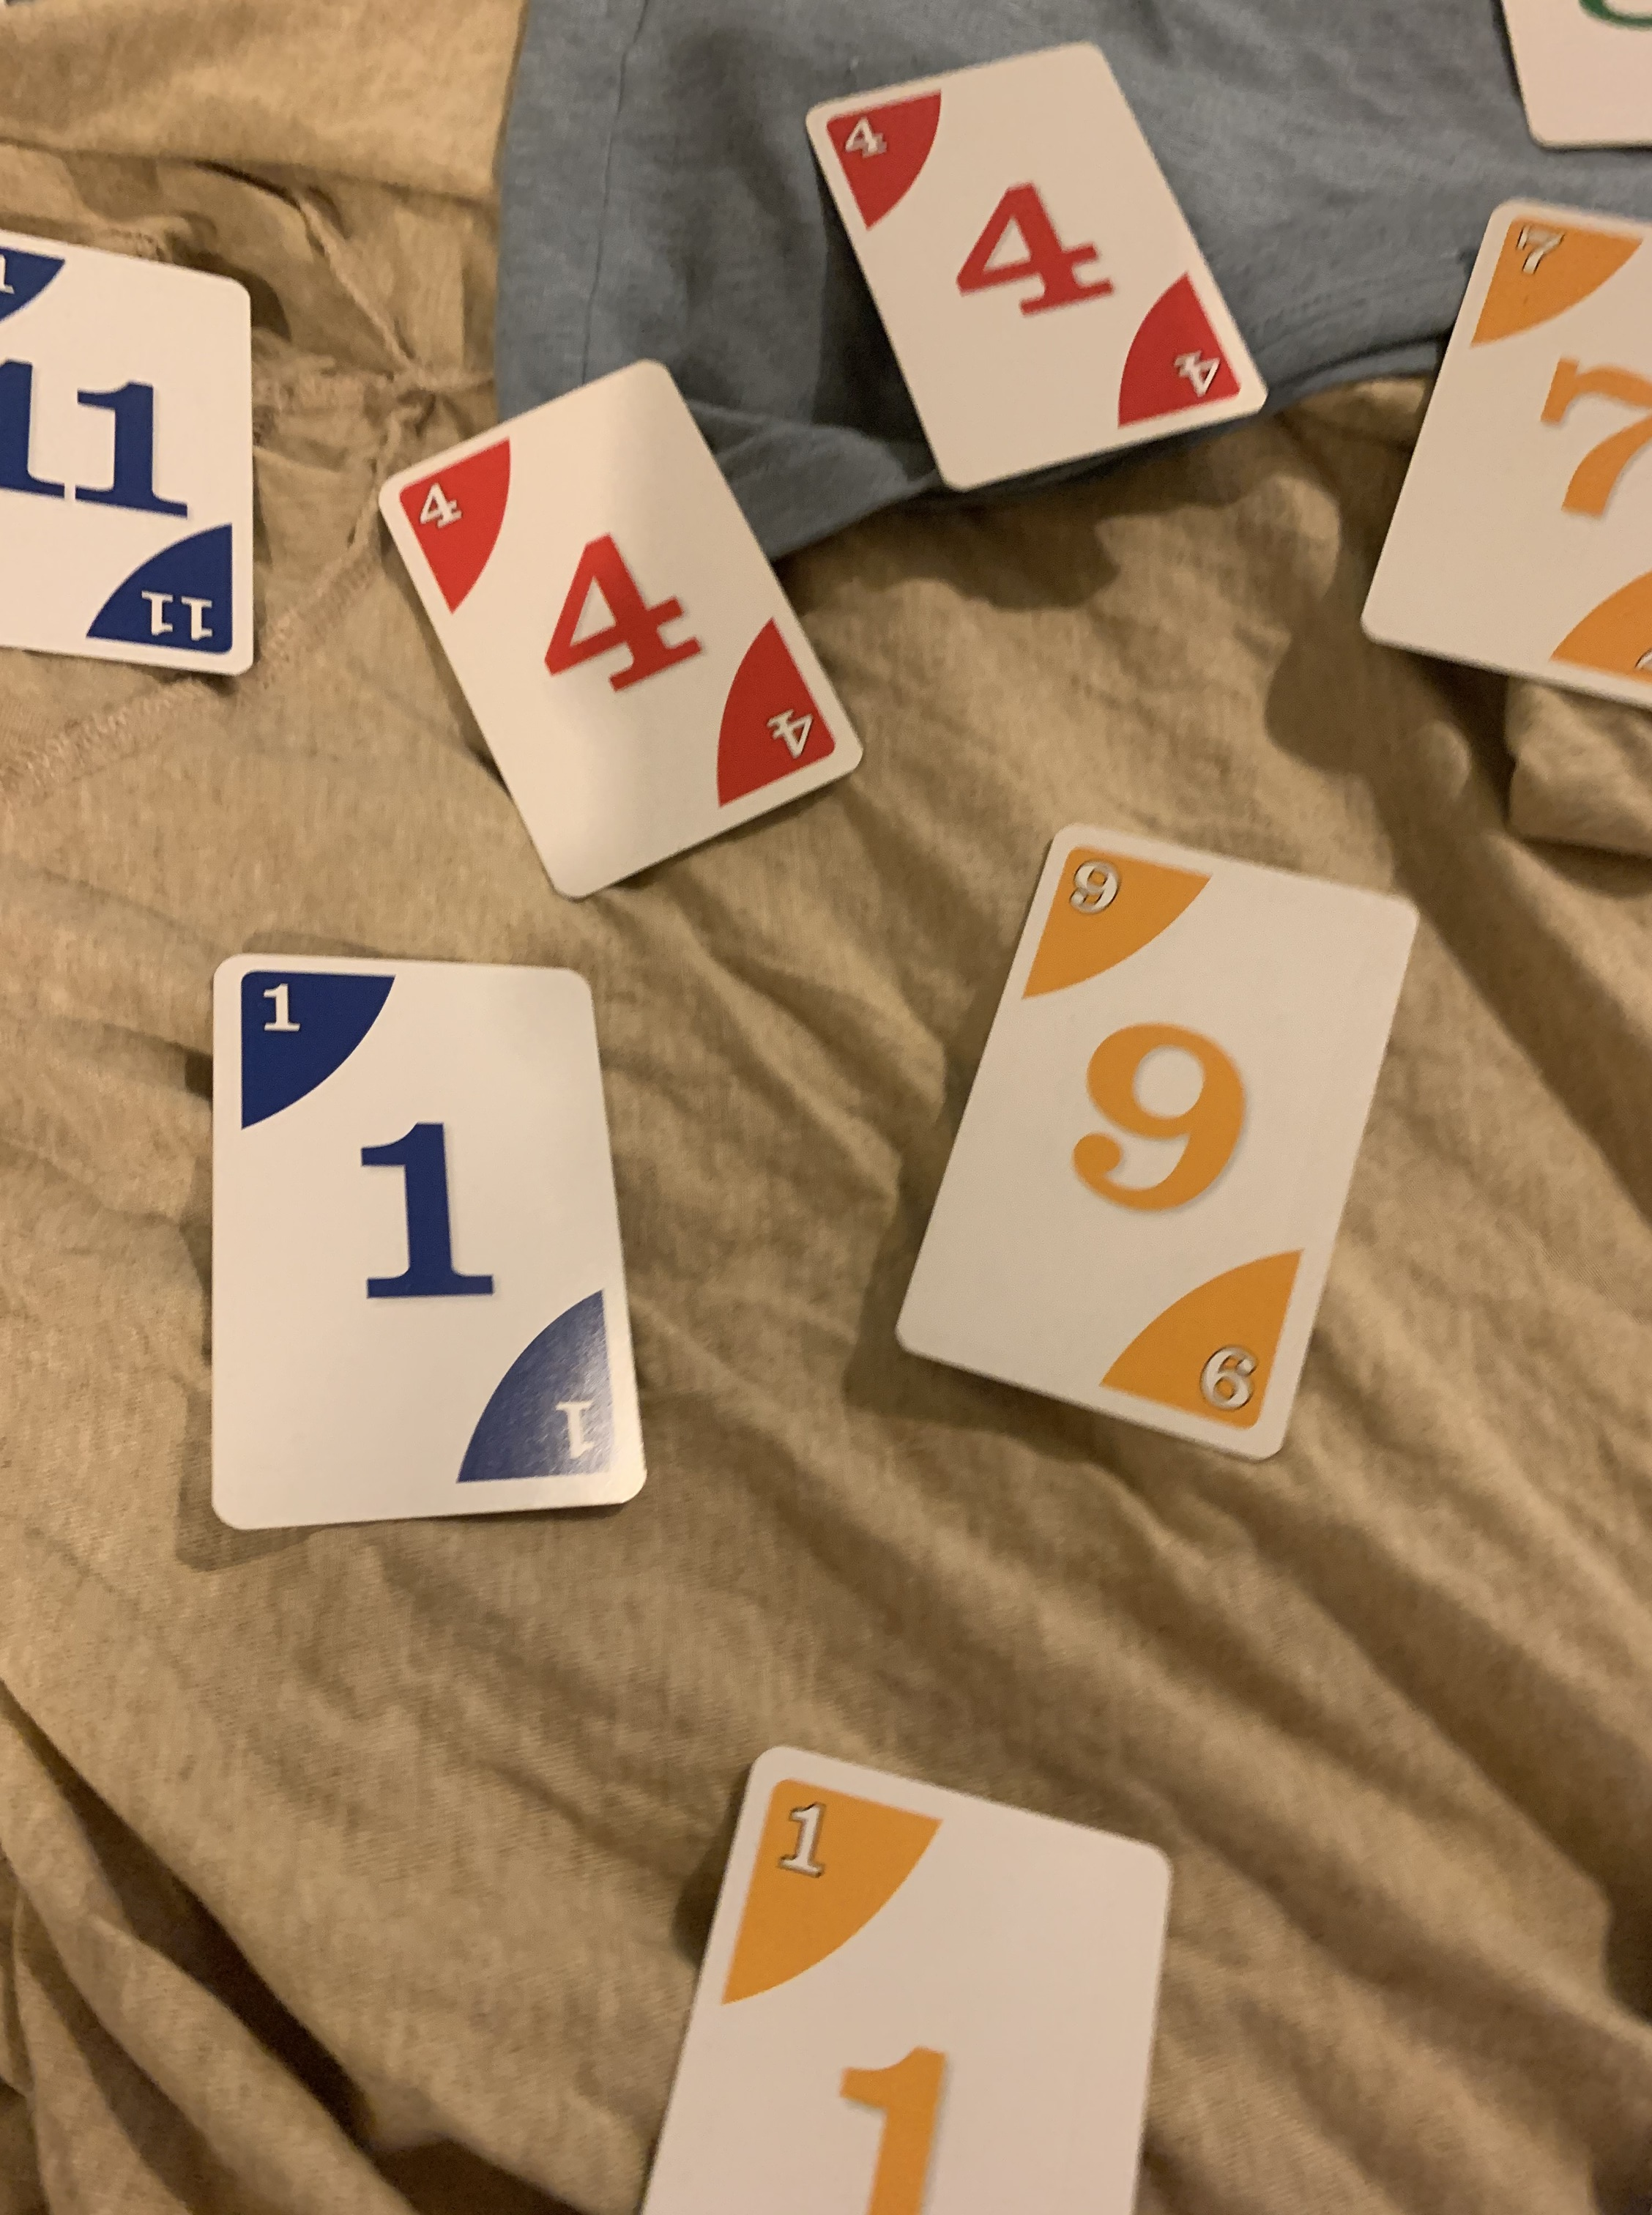four: (373, 344, 862, 906), (788, 28, 1277, 502)
nine: (871, 812, 1440, 1479)
one: (187, 951, 656, 1540), (619, 1746, 1197, 2215)
